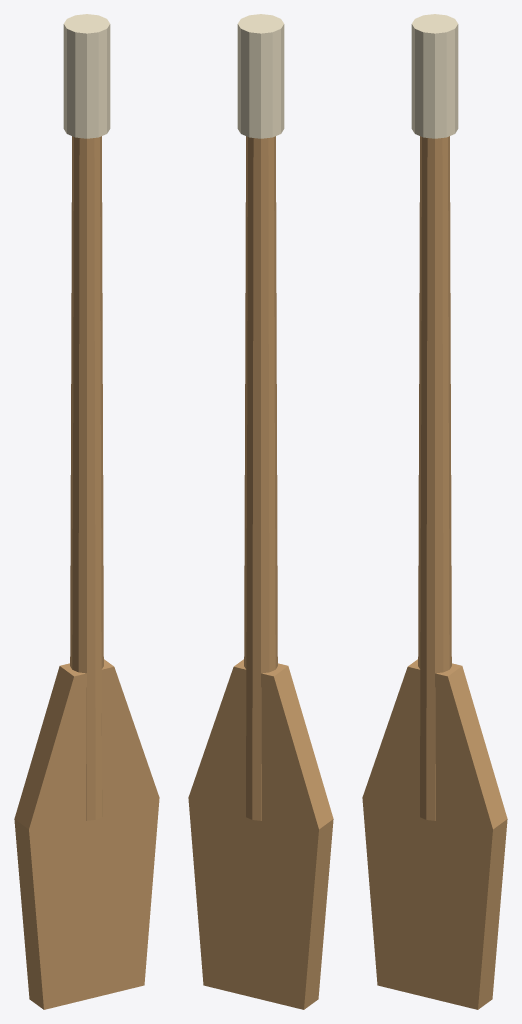
Rendered from wooden_oar_quiet_lake_fishing_22403.glb.
3 views of the same model, side by side, from view 1: azimuth 30°, elevation 25°; view 2: azimuth 150°, elevation 25°; view 3: azimuth 330°, elevation 25° (orthographic).
Parts seen in each view (by area): view 1: wood, cream; view 2: wood, cream; view 3: wood, cream.
Part boxes in pixels (x1,y1,x2,y2): wood: (14, 136, 159, 1009); cream: (63, 14, 110, 138); wood: (188, 136, 333, 1009); cream: (237, 14, 284, 138); wood: (362, 136, 507, 1009); cream: (411, 14, 458, 138).
Bounding box in the file's own units: 0.2599 × 1.84 × 0.08.
